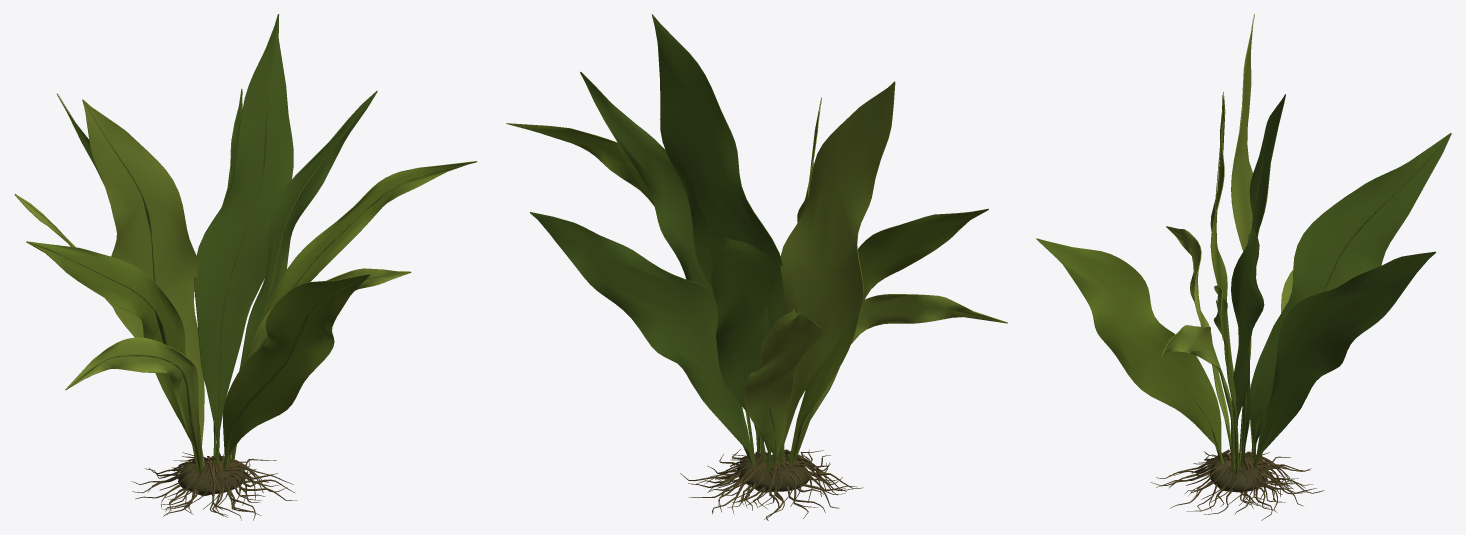
File: waterweed-lod.glb
The picture shows the model from 3 angles, left to right: view 1: azimuth 30°, elevation 25°; view 2: azimuth 150°, elevation 25°; view 3: azimuth 270°, elevation 25°; orthographic projection. The views are drawn at different scales.
Visible parts, largest first — view 1: Leaf 02 - rippled blade_export, Leaf 03 - rippled blade_export, Leaf 01 - rippled blade_export, Leaf 01 - midrib_export, Branch root 00_export, Continuous root crown_export; view 2: Leaf 02 - rippled blade_export, Leaf 01 - rippled blade_export, Leaf 03 - rippled blade_export, Branch root 00_export, Continuous root crown_export, Leaf 01 - midrib_export; view 3: Leaf 02 - rippled blade_export, Leaf 03 - rippled blade_export, Leaf 01 - rippled blade_export, Branch root 00_export, Leaf 01 - midrib_export, Continuous root crown_export.
Boxes of the visible parts, x1,y1,x2,y2 form: Leaf 02 - rippled blade_export: (57,14,377,465); Leaf 03 - rippled blade_export: (26,161,477,471); Leaf 01 - rippled blade_export: (14,99,411,467); Leaf 01 - midrib_export: (16,14,476,474); Branch root 00_export: (131,452,297,520); Continuous root crown_export: (178,456,245,496); Leaf 02 - rippled blade_export: (530,14,783,472); Leaf 01 - rippled blade_export: (744,81,1007,468); Leaf 03 - rippled blade_export: (506,97,988,465); Branch root 00_export: (680,449,863,520); Continuous root crown_export: (737,453,809,492); Leaf 01 - midrib_export: (711,98,821,469); Leaf 02 - rippled blade_export: (1231,94,1451,468); Leaf 03 - rippled blade_export: (1036,91,1238,473); Leaf 01 - rippled blade_export: (1161,14,1293,469); Branch root 00_export: (1150,449,1324,520); Leaf 01 - midrib_export: (1158,15,1450,473); Continuous root crown_export: (1209,453,1267,492).
Bounding box in the file's own units: 0.5014 × 0.4627 × 0.4011.
